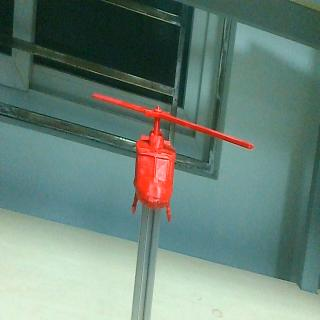Helicopter: (90, 89, 254, 222)
